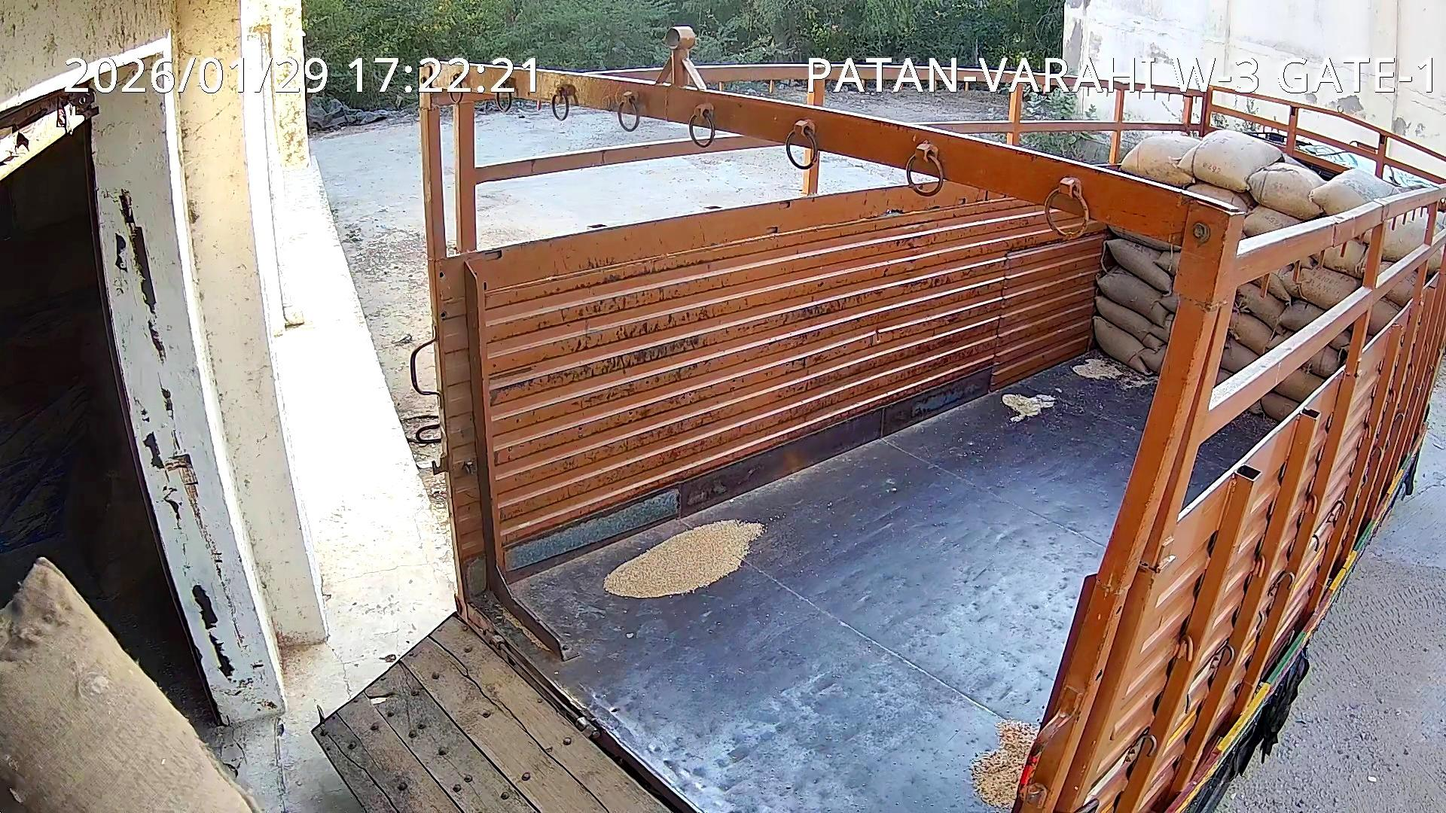Sack: (0, 558, 258, 812)
